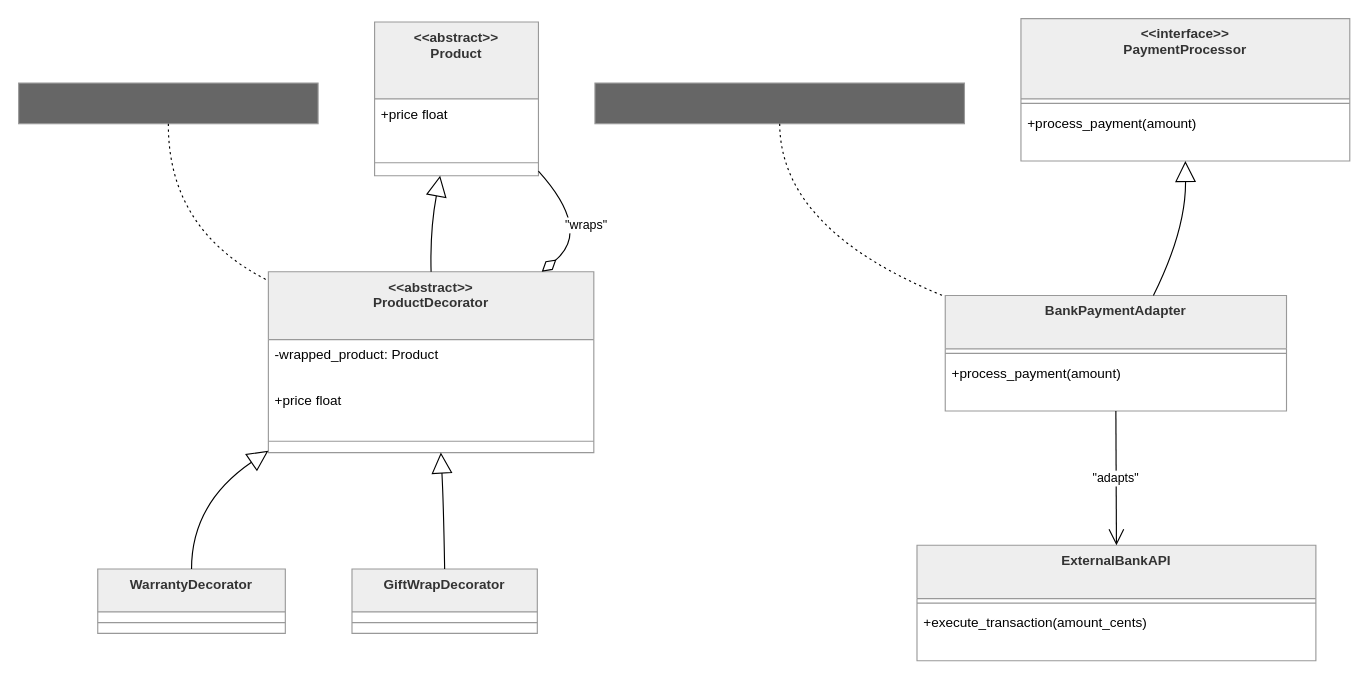
This 1368x679 diagram has some shape labels left out. The centre of each missing label's shape, as x and y in pixels:
Dinamik özellik ekleme (Wrapper): [168,103]
TL -> Kuruş dönüşümü ve API entegrasyonu: [779,103]
